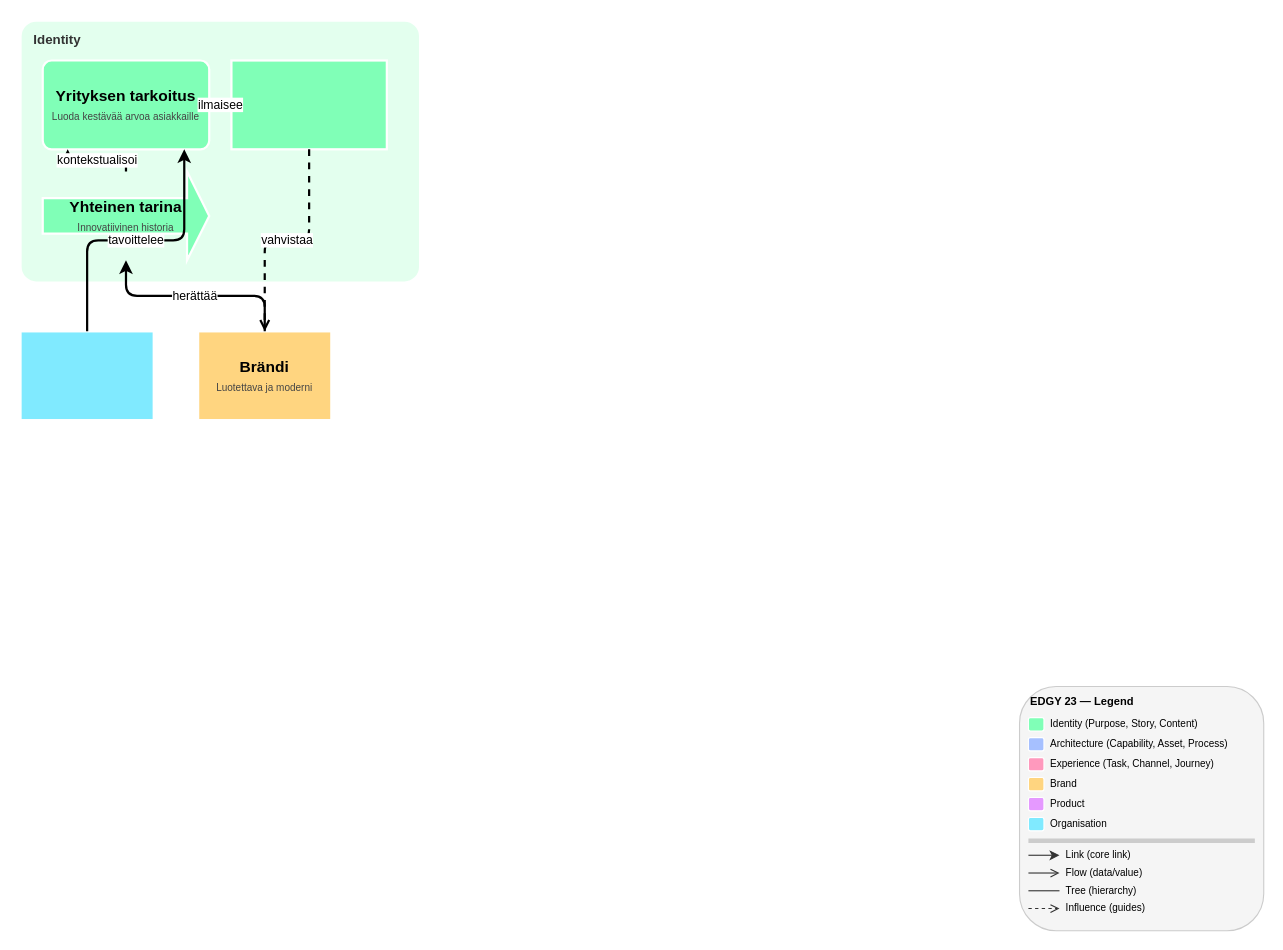
Some shapes in this 1283 by 950 pixel diagram are drawn without their labels. Here are the shapes that lost their labels. From the top down, the centre of each, then its label:
At (308,104): "Laadukas sisältö Ammattitaitoinen viestintä".
At (86,375): "Organisaatio Tiimipohjainen rakenne".
